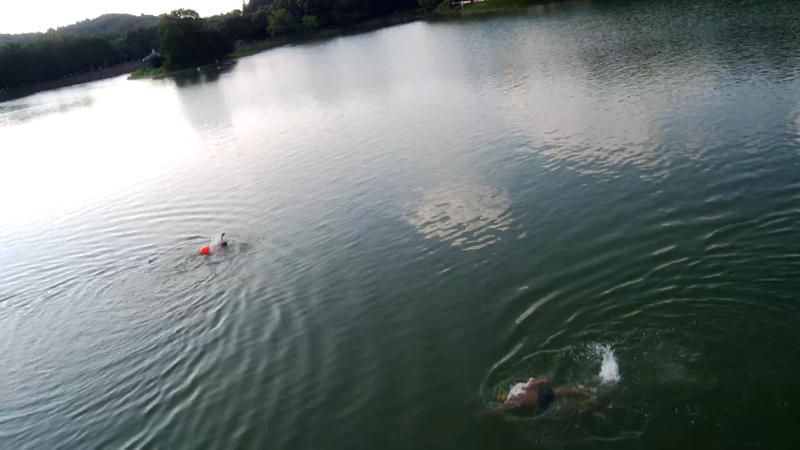swimmers: (477, 376, 599, 417)
